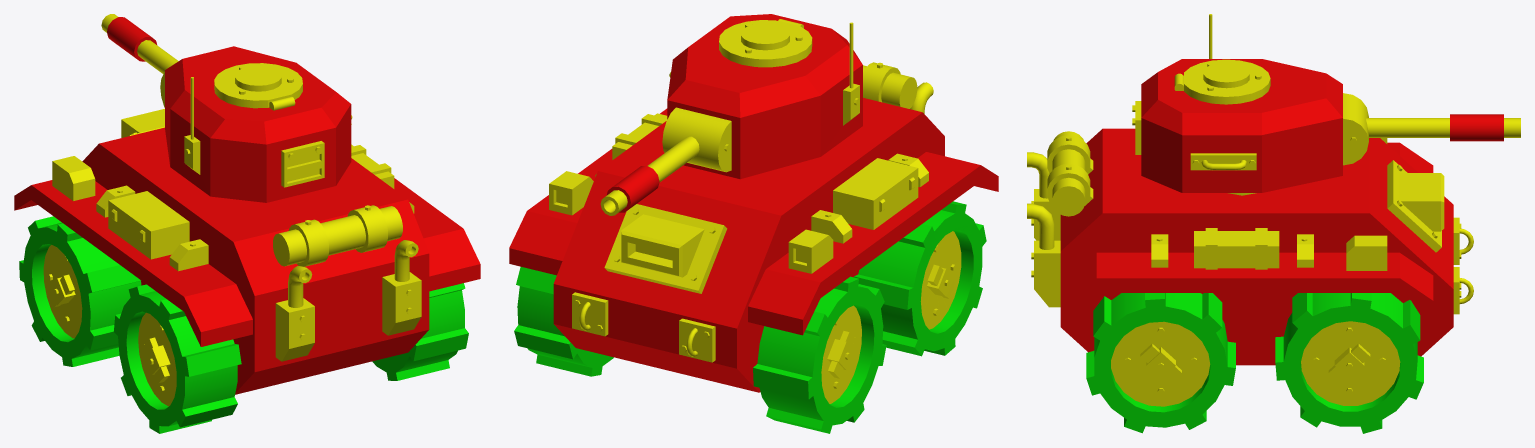
Rendered from СTF_TankFree.FBX.
The picture shows the model from 3 angles, left to right: view 1: azimuth 30°, elevation 25°; view 2: azimuth 150°, elevation 25°; view 3: azimuth 270°, elevation 25°; orthographic projection. The views are drawn at different scales.
Parts seen in each view (by area): view 1: TankFree_Body, TankFree_Tower, TankFree_Wheel_b_left, TankFree_Wheel_f_left, TankFree_Wheel_b_right, TankFree_Canon; view 2: TankFree_Body, TankFree_Tower, TankFree_Wheel_f_left, TankFree_Wheel_b_left, TankFree_Wheel_f_right, TankFree_Canon; view 3: TankFree_Body, TankFree_Tower, TankFree_Wheel_b_right, TankFree_Wheel_f_right, TankFree_Canon.
Boxes of the visible parts, x1,y1,x2,y2 form: TankFree_Body: (14,108,480,394); TankFree_Tower: (160,46,352,202); TankFree_Wheel_b_left: (113,284,241,433); TankFree_Wheel_f_left: (19,216,141,366); TankFree_Wheel_b_right: (372,283,468,380); TankFree_Canon: (101,14,178,74); TankFree_Body: (509,62,998,392); TankFree_Tower: (662,14,862,179); TankFree_Wheel_f_left: (753,276,886,433); TankFree_Wheel_b_left: (854,201,986,356); TankFree_Wheel_f_right: (514,267,613,376); TankFree_Canon: (600,136,699,215); TankFree_Body: (1027,128,1473,365); TankFree_Tower: (1132,14,1368,195); TankFree_Wheel_b_right: (1086,293,1235,433); TankFree_Wheel_f_right: (1275,293,1423,433); TankFree_Canon: (1366,114,1520,141).
Bounding box in the file's own units: 193 × 208 × 294.
